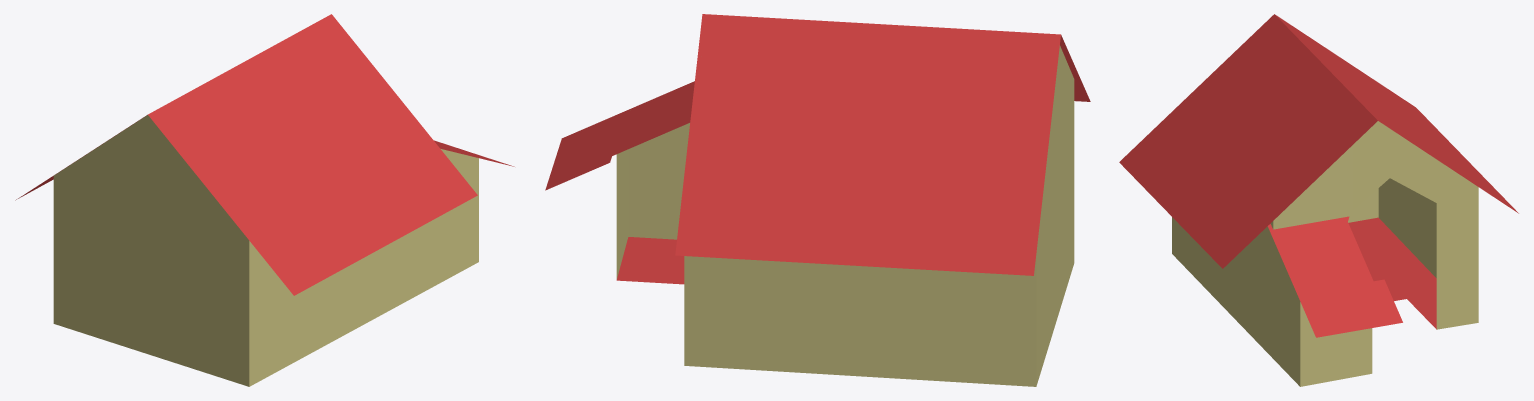
3 views of the same model, side by side, from view 1: azimuth 30°, elevation 25°; view 2: azimuth 150°, elevation 25°; view 3: azimuth 270°, elevation 25° (orthographic). The views are drawn at different scales.
Size of the model in its own units: 31.57 by 26.97 by 16.32.
